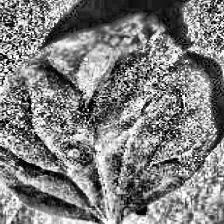disease: (0, 15, 218, 218)
